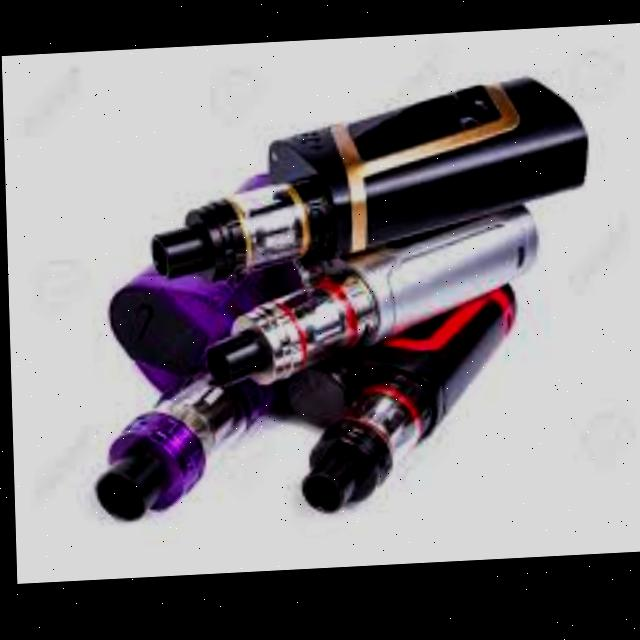vape: (144, 80, 591, 288), (83, 176, 279, 526), (196, 208, 540, 393), (281, 289, 521, 521)
